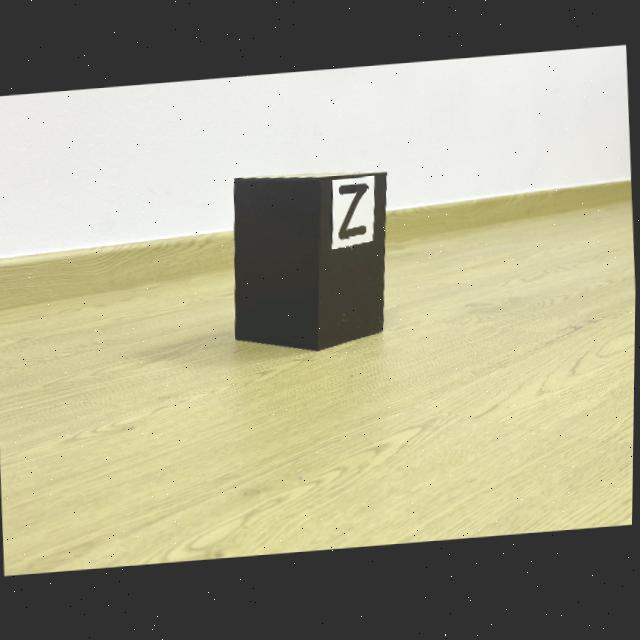Z: (339, 186, 369, 241)
